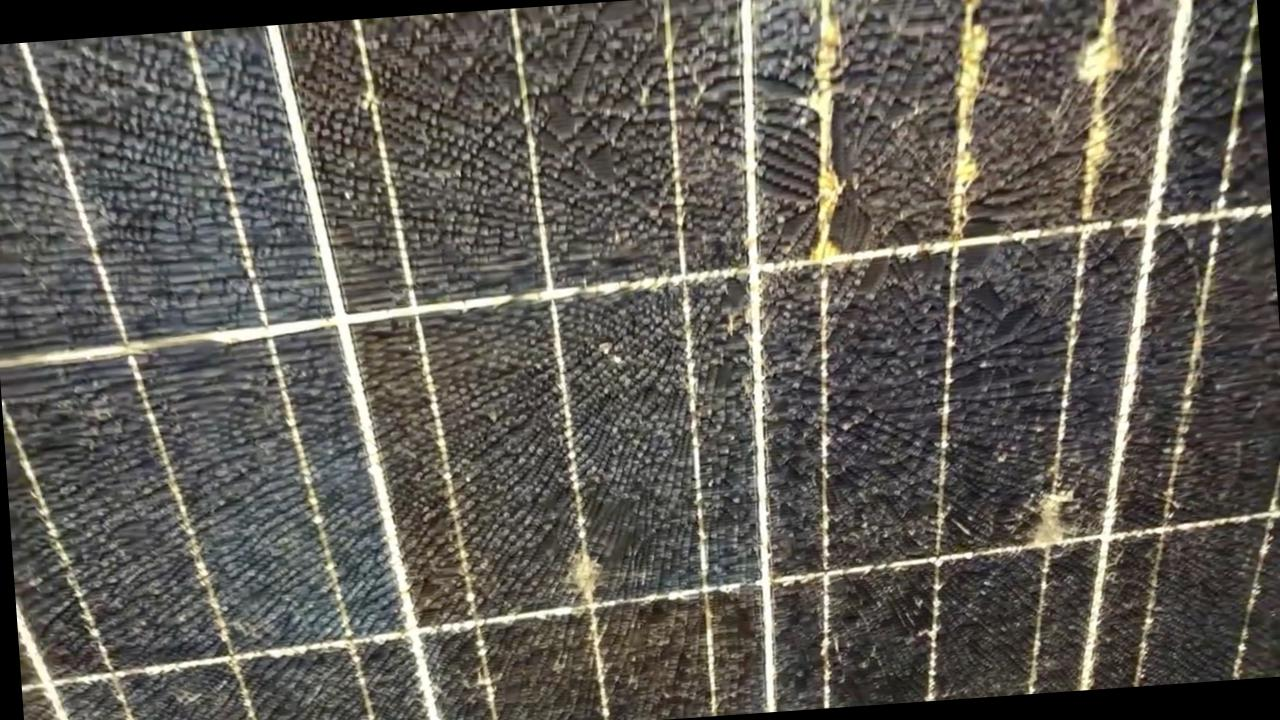Crack: (750, 0, 1142, 250), (1014, 459, 1110, 583), (546, 532, 630, 612)
